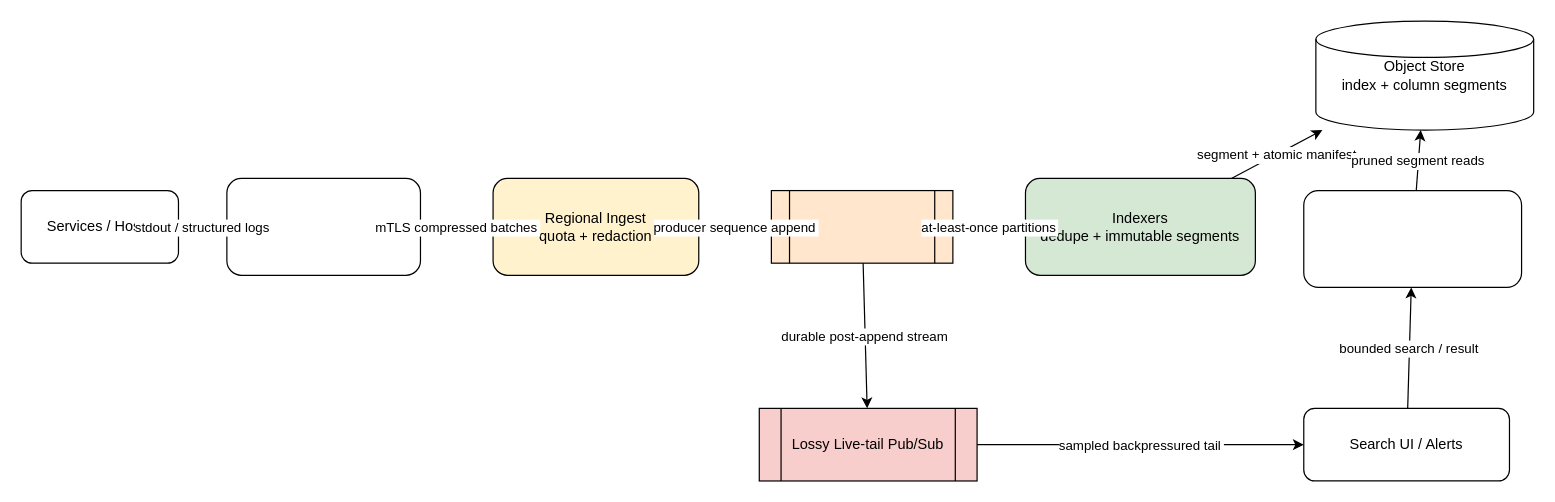
The diagram is 1555 pixels wide and 502 high, and some of its shapes have lost their labels. The centre of each missing label's shape, as x and y in pixels:
Durable Log RF=3: the point at 861,226
Node Agents bounded disk spool: the point at 323,226
Query Coordinator RBAC + budgets: the point at 1412,238
